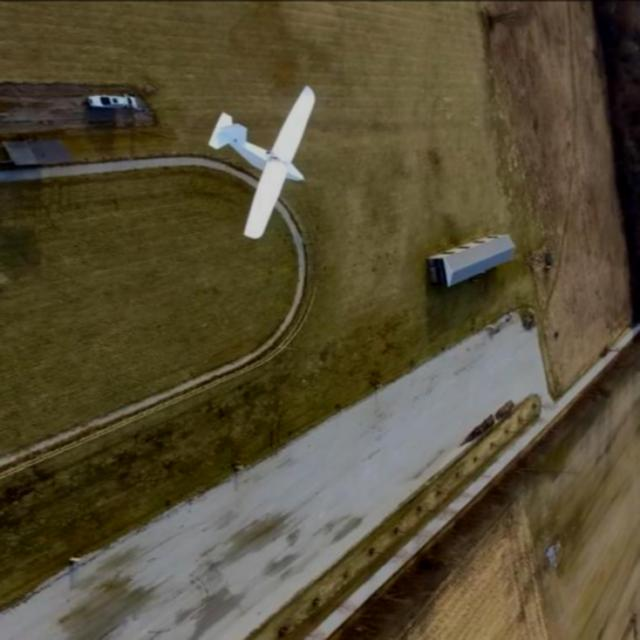plane: (208, 84, 318, 240)
